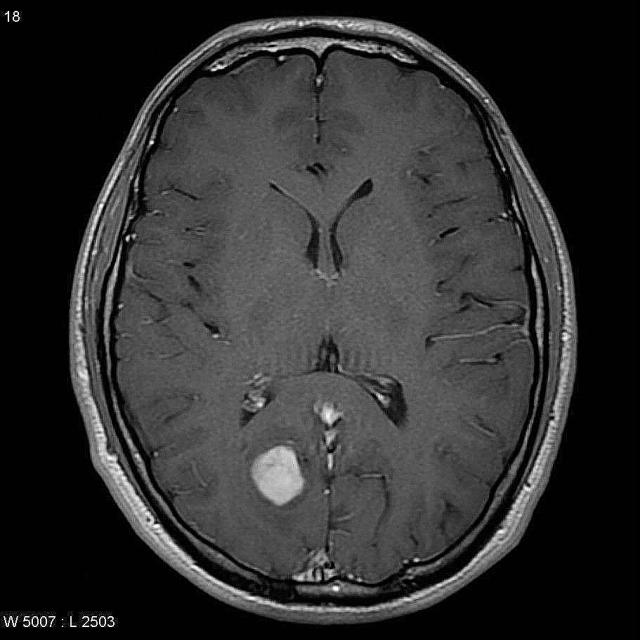Tumor-Cell: (210, 398, 325, 517)
